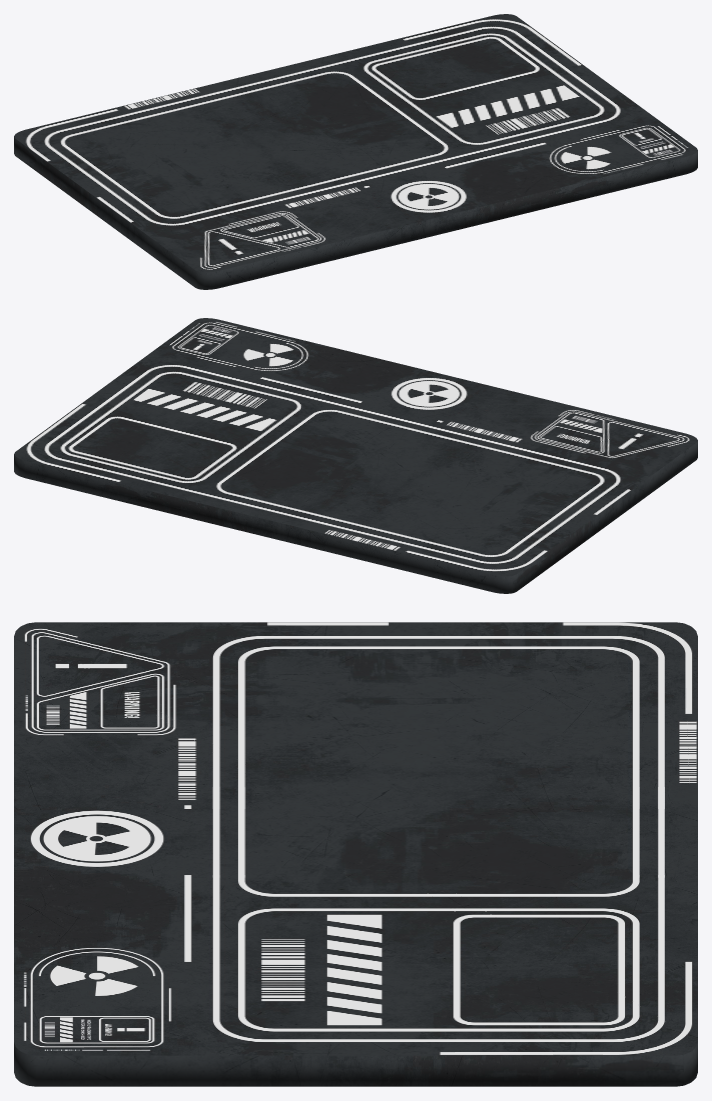
File: Panel_v001.glb
3 renders of one model, top to bottom at view 1: azimuth 30°, elevation 25°; view 2: azimuth 150°, elevation 25°; view 3: azimuth 270°, elevation 25°, orthographic. The views are drawn at different scales.
Parts seen in each view (by area): view 1: panel; view 2: panel; view 3: panel.
Boxes of the visible parts, x1=… form: panel: x1=14, y1=14, x2=697, y2=289; panel: x1=14, y1=318, x2=697, y2=593; panel: x1=14, y1=622, x2=697, y2=1086.
Size of the model in its own units: 0.3 by 0.01 by 0.2.
1 material, 1 textured.
